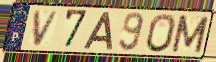7: (64, 8, 89, 51)
9: (118, 11, 145, 53)
A: (82, 11, 114, 51)
M: (169, 14, 211, 55)
O: (144, 12, 177, 54)
V: (32, 10, 61, 48)
